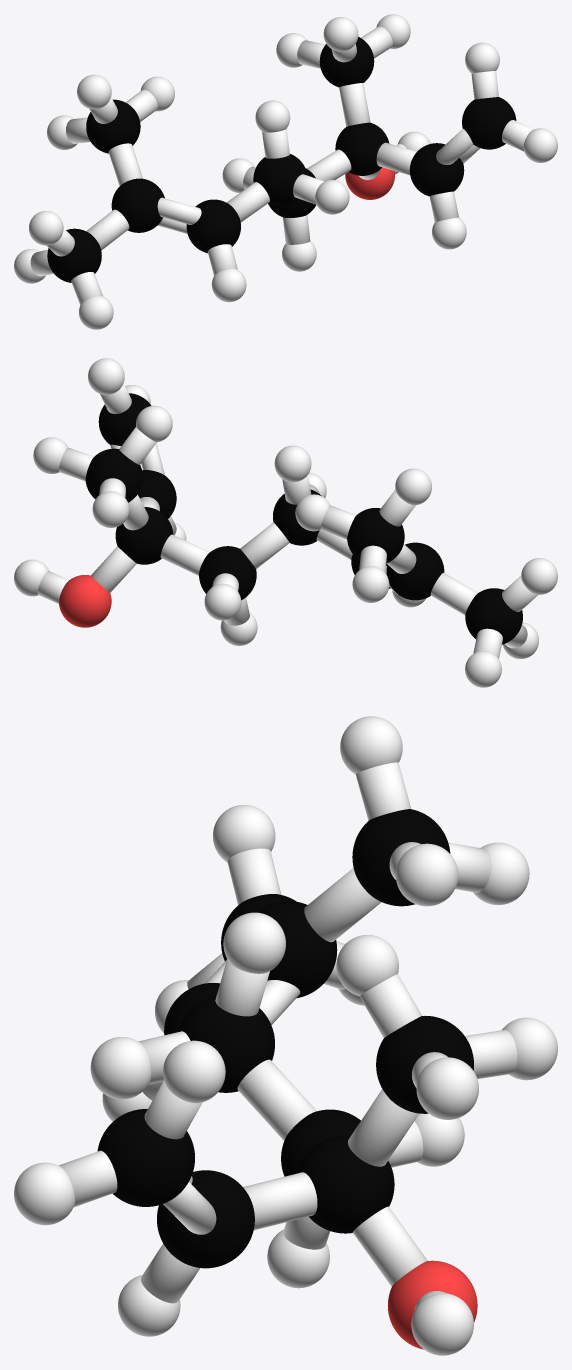
3 renders of one model, top to bottom at view 1: azimuth 30°, elevation 25°; view 2: azimuth 150°, elevation 25°; view 3: azimuth 270°, elevation 25°, orthographic. The views are drawn at different scales.
Visible parts, largest first — view 1: molecule; view 2: molecule; view 3: molecule.
Boxes of the visible parts, x1,y1,x2,y2 form: molecule: (14, 14, 557, 329); molecule: (14, 358, 557, 687); molecule: (14, 716, 557, 1355).
Size of the model in its own units: 9.36 by 4.27 by 5.21.
